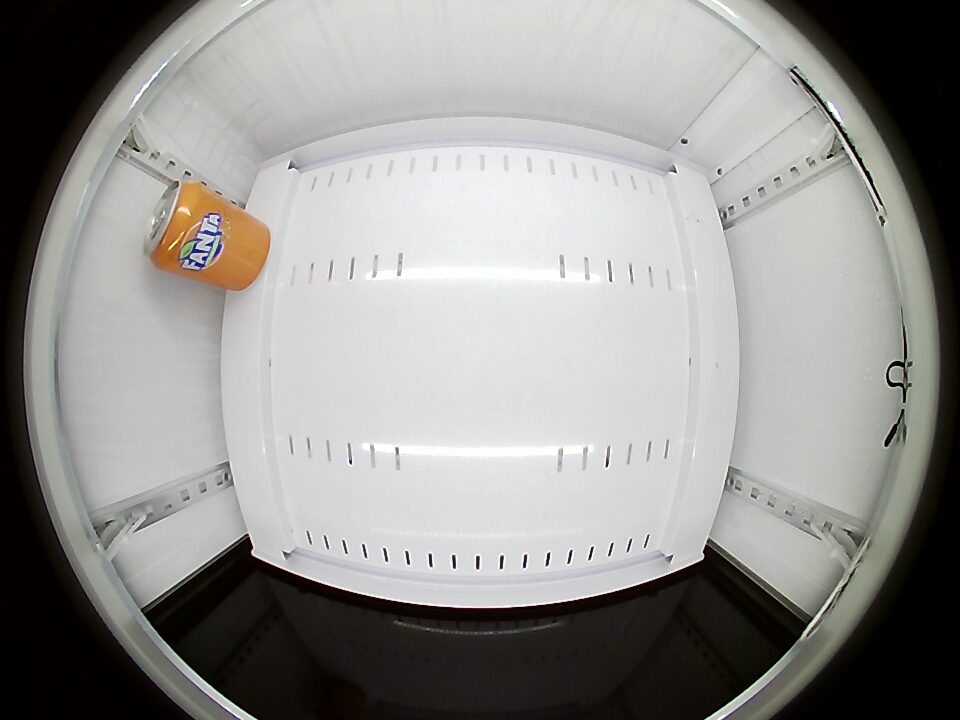fenda: (144, 180, 207, 270)
